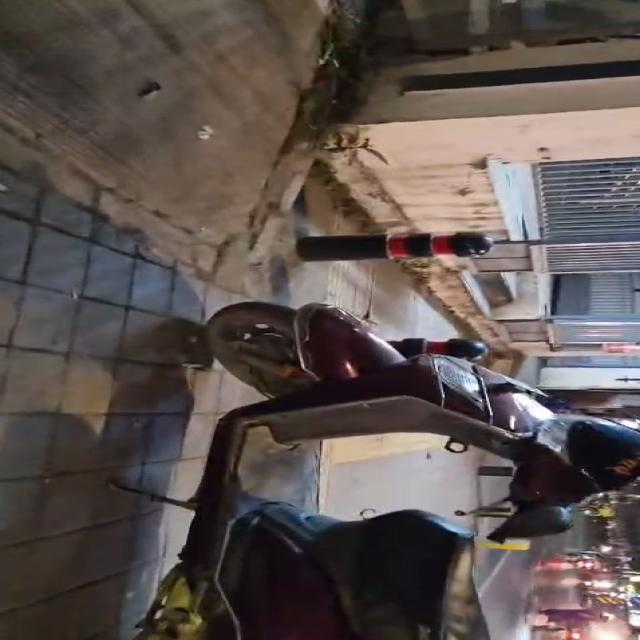bollard: (296, 232, 492, 262)
scooter: (208, 303, 639, 539), (140, 397, 488, 639), (207, 302, 487, 396)
